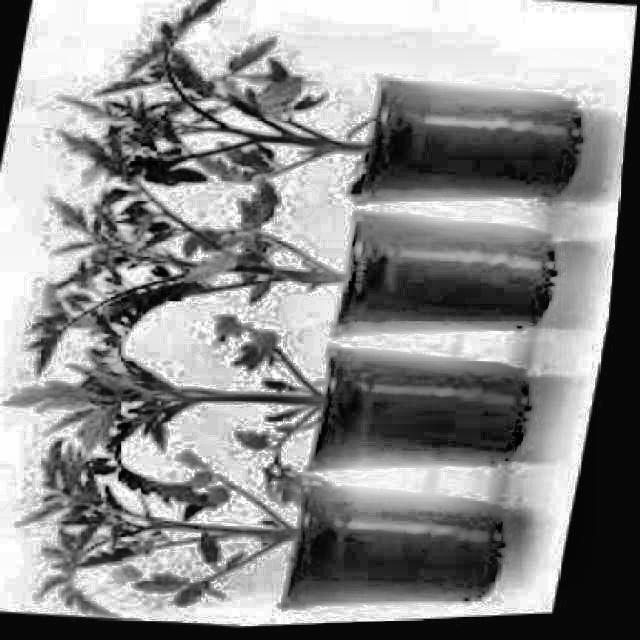plants: (39, 0, 624, 257), (4, 154, 578, 412), (0, 302, 557, 516), (8, 429, 534, 637)
